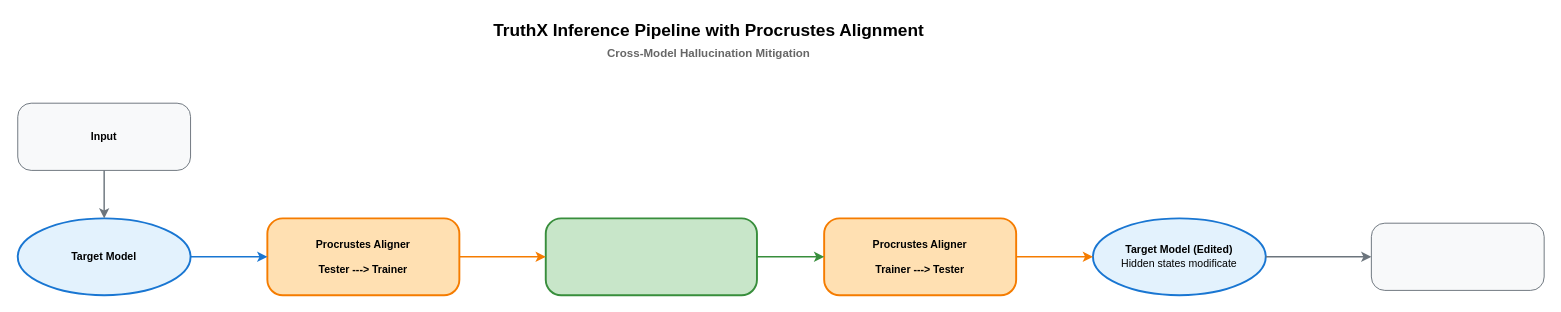
Image size: 1561x312. Some labels were removed from this diagram. The shapes that lost their labels are listed below. From the top down, each one's centre as x and y in pixels, then its label:
At [650,256]: "TruthX Editing Trainer space".
At [1457,256]: "Output".
